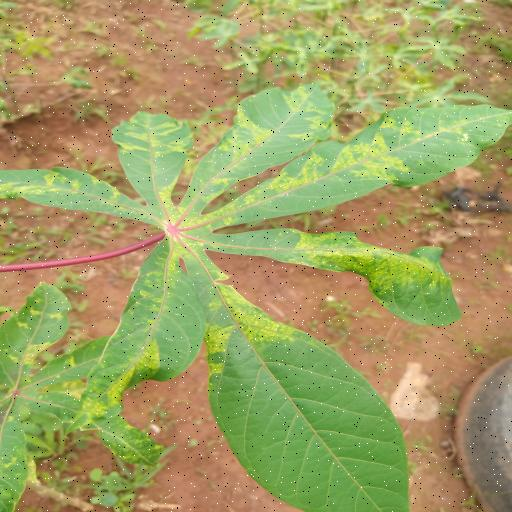Cassava_Mosaic: (2, 83, 512, 512)
